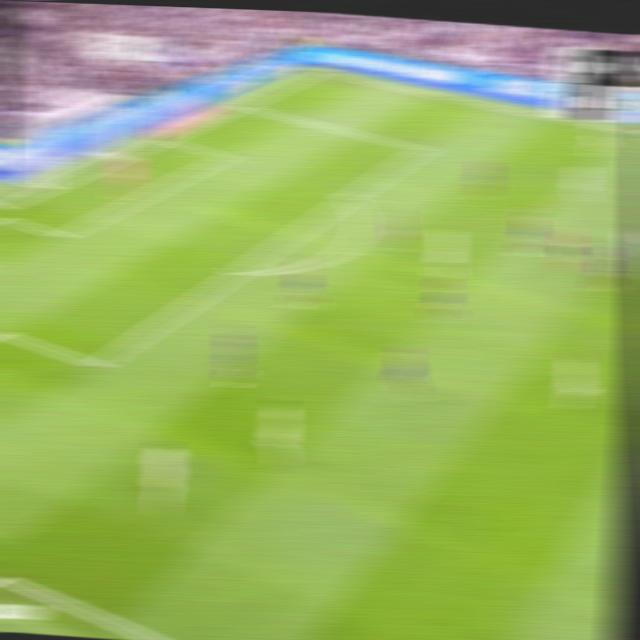bigarea_bottom_inner: (84, 349, 110, 379)
bigarea_top_inner: (410, 139, 432, 156)
bigarea_top_outter: (232, 96, 254, 111)
bottom_arc_area_intersection: (226, 260, 250, 281)
corner: (308, 63, 330, 76)
smallarea_top_inner: (213, 147, 235, 163)
top_arc_area_intersection: (338, 187, 359, 206)
